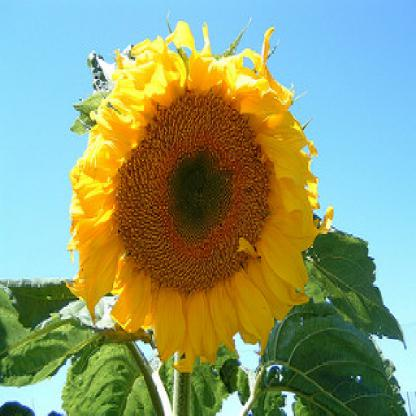SUN FLOWER: (22, 5, 373, 395)
